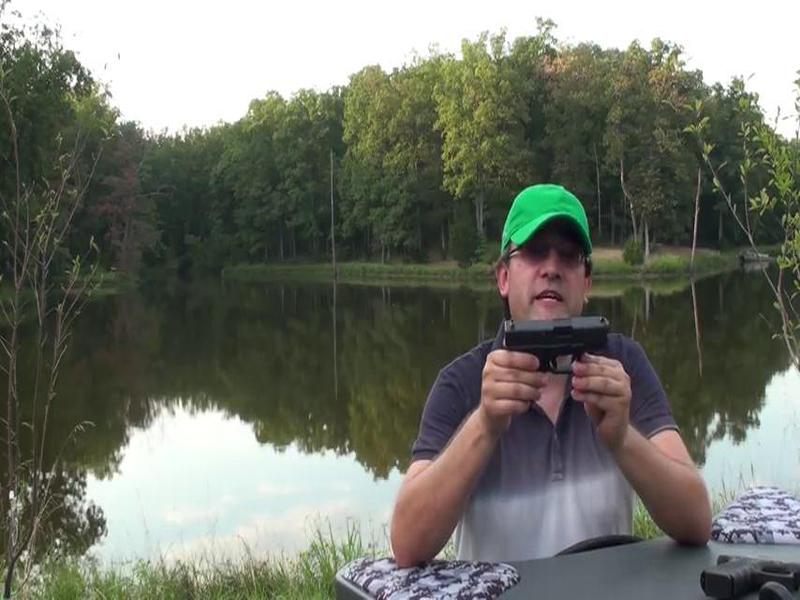Pistola: (482, 308, 609, 386)
